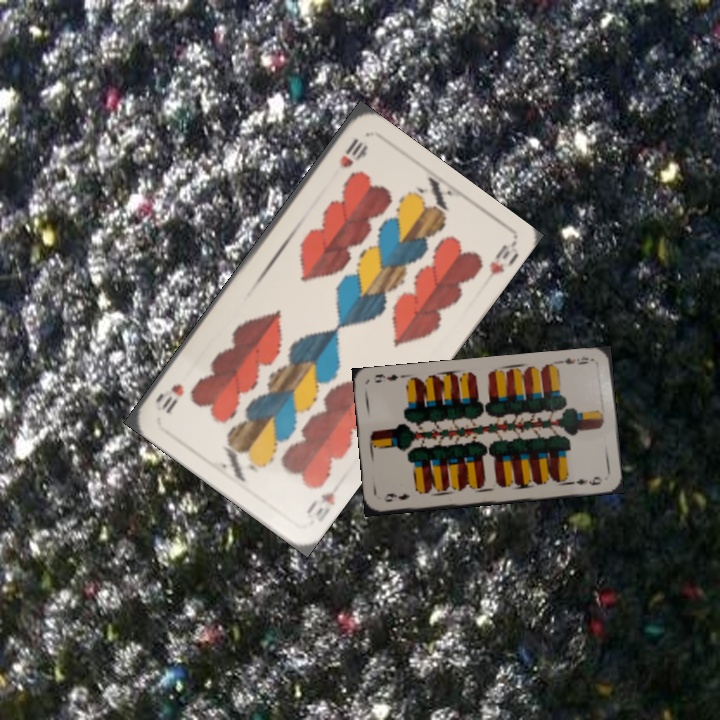E9: (555, 352, 596, 367), (379, 489, 412, 505)
H10: (302, 488, 338, 525), (335, 133, 369, 171)
